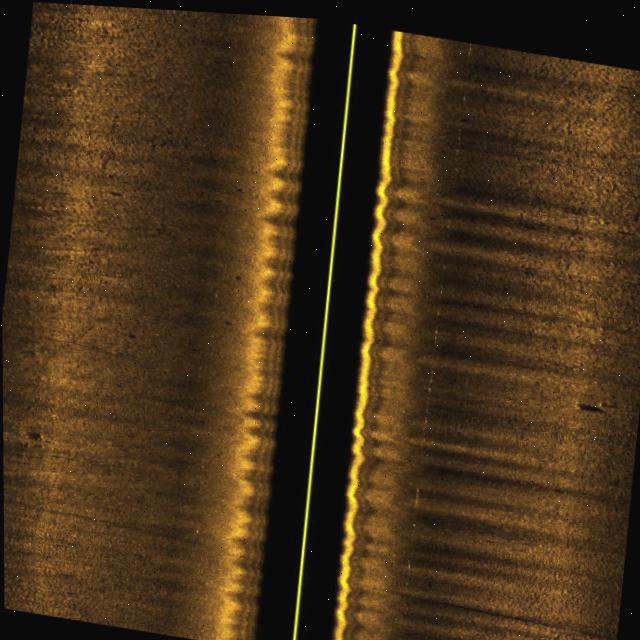other: (563, 389, 604, 407)
